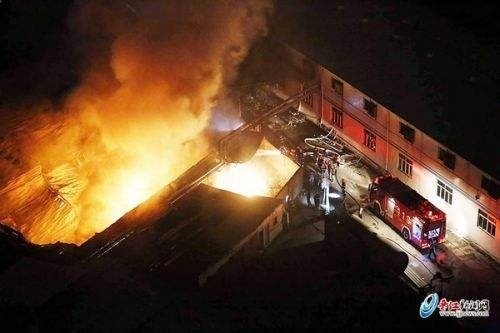fire: (211, 147, 284, 195)
